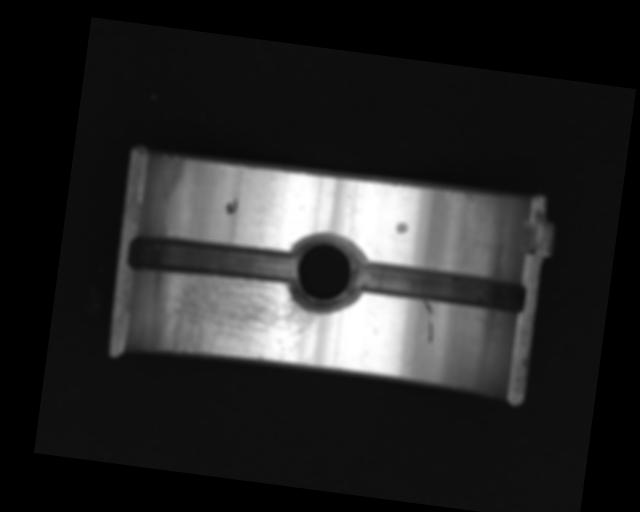blot: (225, 197, 238, 216)
bruise: (395, 220, 409, 235)
gap: (126, 231, 300, 289), (352, 258, 529, 315)
hole: (284, 229, 367, 318)
nick: (419, 297, 438, 343)
scratch: (159, 266, 324, 371)
